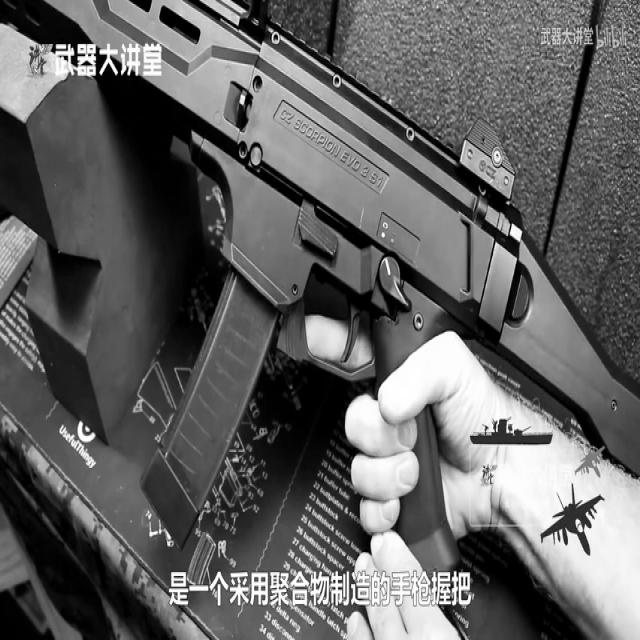Sub-machine-gun: (77, 0, 640, 622)
